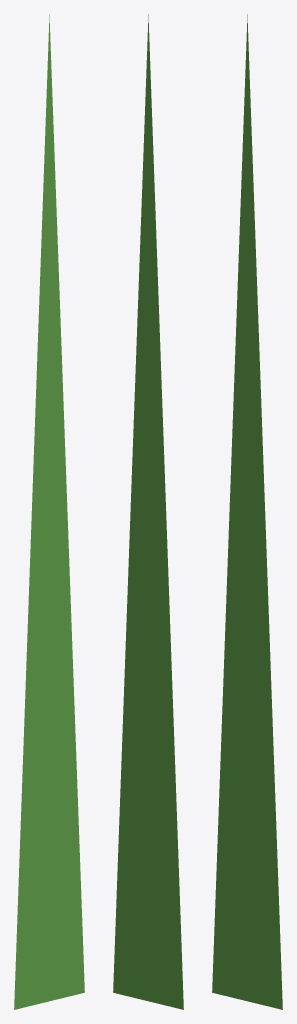
The model's file is GrassBlade_9v.glb.
3 renders of one model, left to right at view 1: azimuth 30°, elevation 25°; view 2: azimuth 150°, elevation 25°; view 3: azimuth 330°, elevation 25°, orthographic.
Parts seen in each view (by area): view 1: GrassBlade; view 2: GrassBlade; view 3: GrassBlade.
Part boxes in pixels (x1,y1,x2,y2): GrassBlade: (14,14,84,1009); GrassBlade: (113,14,183,1009); GrassBlade: (212,14,282,1009).
Bounding box in the file's own units: 0.03 × 0.4 × 0.
